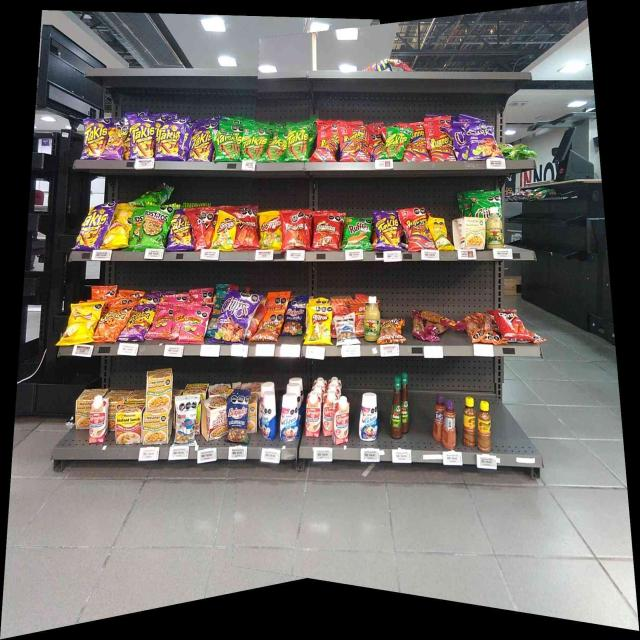bitzEnchilado95: (470, 314, 497, 342)
bitzHabanero: (427, 311, 458, 339), (412, 312, 424, 340)
bokadosCacahuates: (228, 390, 247, 442), (287, 297, 303, 334)
botaneraChilito: (478, 401, 492, 450), (463, 397, 476, 447)
cheetosFlaminHot: (127, 307, 149, 341)
cheetosOriginal: (99, 306, 122, 340)
chipsFuego: (221, 291, 246, 342), (468, 121, 498, 158)
churrumais: (180, 305, 206, 341), (154, 307, 172, 337)
delPrimoSalsa: (365, 296, 380, 341), (487, 206, 502, 248)
doritosNacho: (193, 208, 214, 249), (237, 210, 257, 248), (499, 309, 524, 339)
fritosLimon: (307, 306, 330, 343), (260, 213, 280, 248), (216, 213, 234, 249)
leoCacahuates: (175, 396, 195, 446), (336, 316, 356, 344)
leoMix: (257, 310, 279, 341), (382, 320, 402, 342)
maruchanPollo: (146, 370, 171, 407), (454, 218, 484, 248), (143, 413, 171, 443), (75, 389, 89, 428)
maruchanRes: (117, 404, 142, 442)
nestleCarnation: (90, 397, 108, 441), (333, 400, 348, 444), (306, 393, 320, 437), (323, 393, 332, 437)
nestleLechera: (359, 393, 378, 440), (282, 394, 298, 442), (263, 391, 276, 438)
nissinRes: (202, 399, 226, 438)
rancheritos: (314, 214, 340, 250), (285, 211, 307, 247)
rufflesQueso: (345, 217, 371, 250)
runners: (405, 208, 429, 247), (430, 122, 451, 161), (339, 125, 362, 160), (315, 126, 337, 162), (412, 125, 428, 162)
sabritasOriginal: (70, 304, 94, 342), (109, 208, 130, 250)
salsaBufalo: (390, 375, 401, 439), (402, 372, 410, 432)
semillasCalabaza: (432, 218, 450, 250)
tajinDulce: (442, 401, 457, 449), (433, 394, 442, 441)
takisFuego: (82, 202, 107, 248), (130, 117, 154, 158), (158, 120, 182, 160), (376, 211, 399, 248), (83, 120, 104, 158), (170, 212, 192, 248), (194, 118, 212, 160)
takisOriginal: (288, 125, 309, 162), (244, 127, 264, 160), (384, 126, 404, 158), (216, 128, 236, 159), (267, 130, 287, 161)
tostitos: (143, 207, 167, 250)
